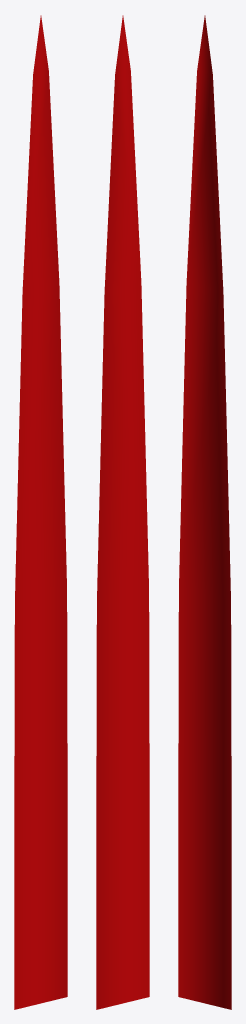
File: GrassBlade.glb
3 renders of one model, left to right at view 1: azimuth 30°, elevation 25°; view 2: azimuth 210°, elevation 25°; view 3: azimuth 330°, elevation 25°, orthographic.
Parts seen in each view (by area): view 1: GrassBladeMesh; view 2: GrassBladeMesh; view 3: GrassBladeMesh.
Part boxes in pixels (x1,y1,x2,y2): GrassBladeMesh: [14, 15, 67, 1009]; GrassBladeMesh: [96, 15, 149, 1009]; GrassBladeMesh: [178, 15, 231, 1009].
Size of the model in its own units: 0.1127 by 2 by 1.51e-07.
